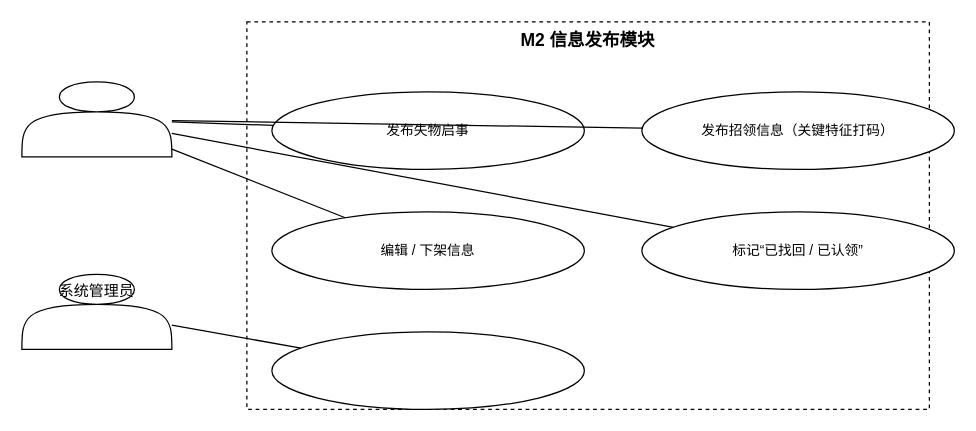
Image size: 976x431. Some labels were removed from this diagram. Here are the shapes that lost their labels. From the top down, the box of each, then its label:
(21, 81, 172, 157): 注册用户（师生）
(271, 331, 584, 409): 维护物品分类与地点词表
